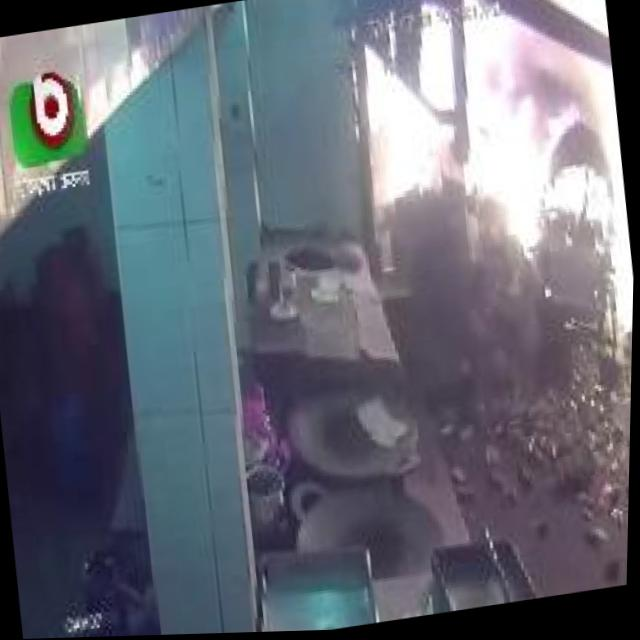fire: (347, 5, 577, 295), (529, 0, 640, 362)
